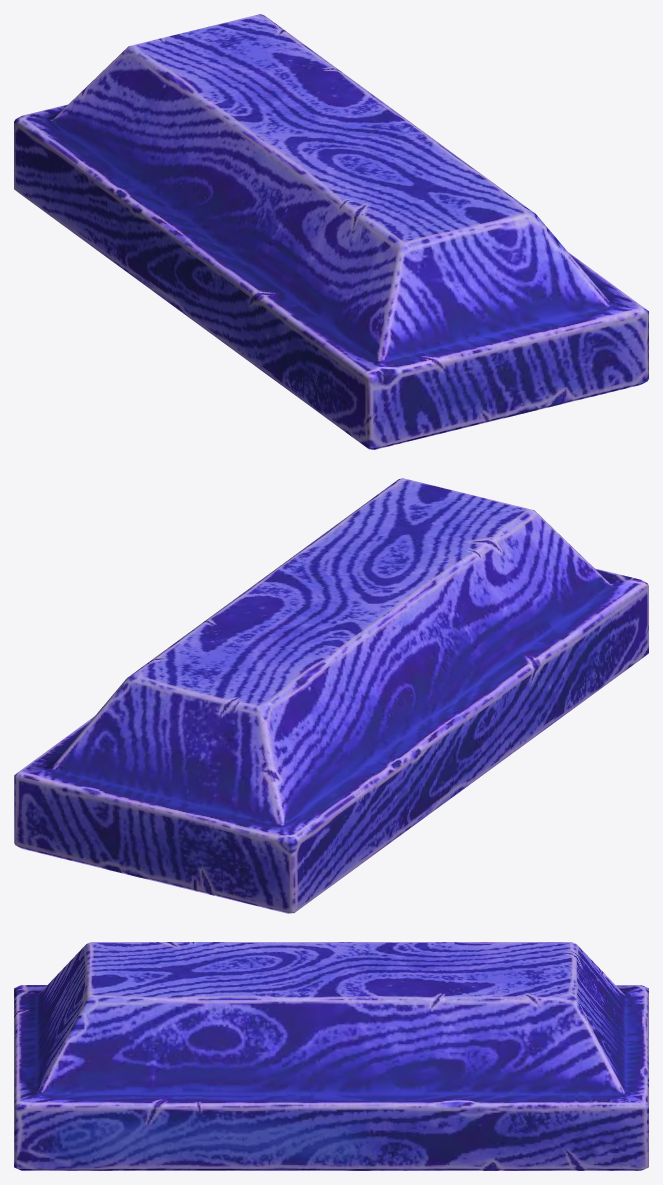
3 renders of one model, top to bottom at view 1: azimuth 30°, elevation 25°; view 2: azimuth 150°, elevation 25°; view 3: azimuth 270°, elevation 25°, orthographic. The views are drawn at different scales.
Visible parts, largest first — view 1: SM_Blurite_01_LOD0; view 2: SM_Blurite_01_LOD0; view 3: SM_Blurite_01_LOD0.
Part boxes in pixels (x1,y1,x2,y2): SM_Blurite_01_LOD0: [14, 14, 648, 449]; SM_Blurite_01_LOD0: [14, 478, 648, 913]; SM_Blurite_01_LOD0: [14, 942, 648, 1170].
Size of the model in its own units: 0.2445 by 0.1322 by 0.5369.
Materials: 1 (1 with a texture image).
